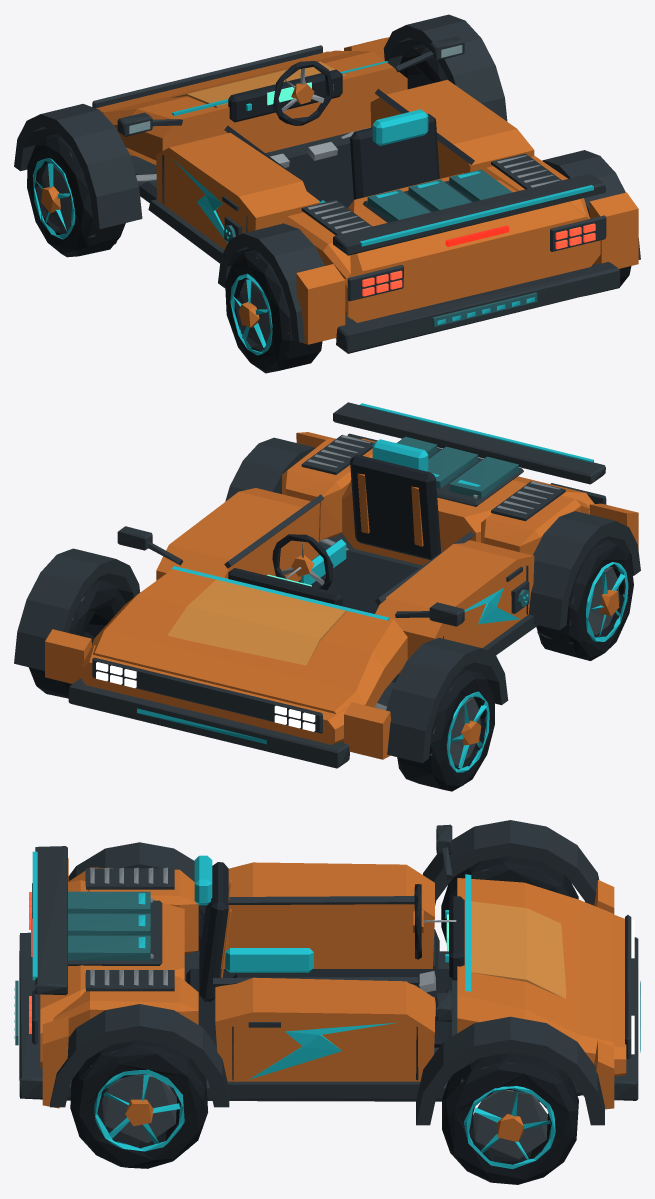
Rendered from bolt_lod1.glb.
3 renders of one model, top to bottom at view 1: azimuth 30°, elevation 25°; view 2: azimuth 150°, elevation 25°; view 3: azimuth 270°, elevation 25°, orthographic. The views are drawn at different scales.
Visible parts, largest first — view 1: body_mesh, wheel_rl, wheel_fl, steering_wheel, light_tail_mesh, wheel_fr; view 2: body_mesh, wheel_rl, wheel_fl, wheel_fr, steering_wheel, light_head_mesh; view 3: body_mesh, wheel_fr, wheel_rr, wheel_fl, steering_wheel.
Part boxes in pixels (bbox=[...]): body_mesh: bbox=[14, 14, 640, 353]; wheel_rl: bbox=[225, 250, 322, 373]; wheel_fl: bbox=[27, 133, 125, 257]; steering_wheel: bbox=[273, 61, 333, 125]; light_tail_mesh: bbox=[362, 223, 595, 296]; wheel_fr: bbox=[399, 44, 447, 89]; body_mesh: bbox=[14, 402, 640, 768]; wheel_rl: bbox=[536, 538, 633, 660]; wheel_fl: bbox=[397, 668, 494, 791]; wheel_fr: bbox=[29, 578, 125, 698]; steering_wheel: bbox=[272, 534, 333, 590]; light_head_mesh: bbox=[96, 662, 315, 731]; body_mesh: bbox=[14, 820, 640, 1125]; wheel_fr: bbox=[442, 1052, 578, 1184]; wheel_rr: bbox=[70, 1040, 207, 1168]; wheel_fl: bbox=[441, 856, 578, 950]; steering_wheel: bbox=[413, 884, 423, 959].
Size of the model in its own units: 2.31 by 0.98 by 2.65.
